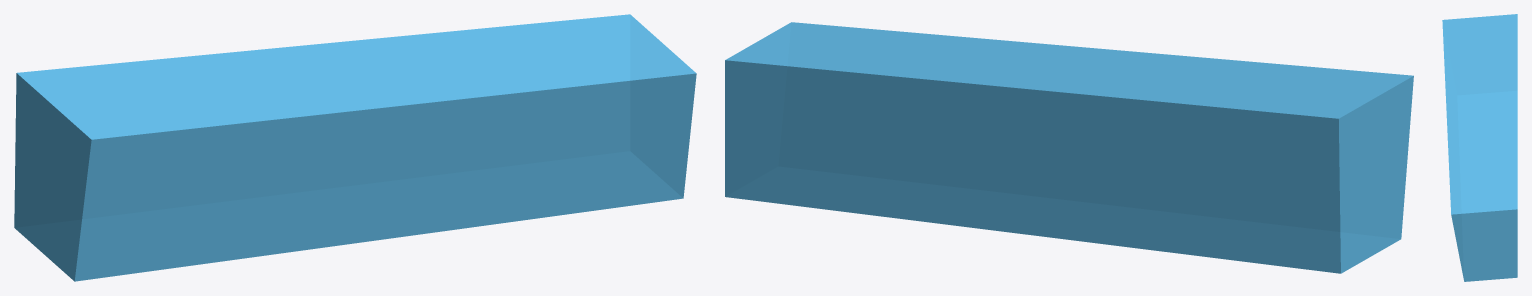
Rendered from Event_421115418_HErechit_31.fbx.
3 views of the same model, side by side, from view 1: azimuth 30°, elevation 25°; view 2: azimuth 150°, elevation 25°; view 3: azimuth 270°, elevation 25° (orthographic). The views are drawn at different scales.
Parts seen in each view (by area): view 1: Model; view 2: Model; view 3: Model.
Part boxes in pixels (box(x1,y1,x2,y2)): Model: box(14, 14, 696, 281); Model: box(725, 22, 1413, 273); Model: box(1442, 14, 1517, 281).
Bounding box in the file's own units: 1.34 × 0.4927 × 0.2838.
